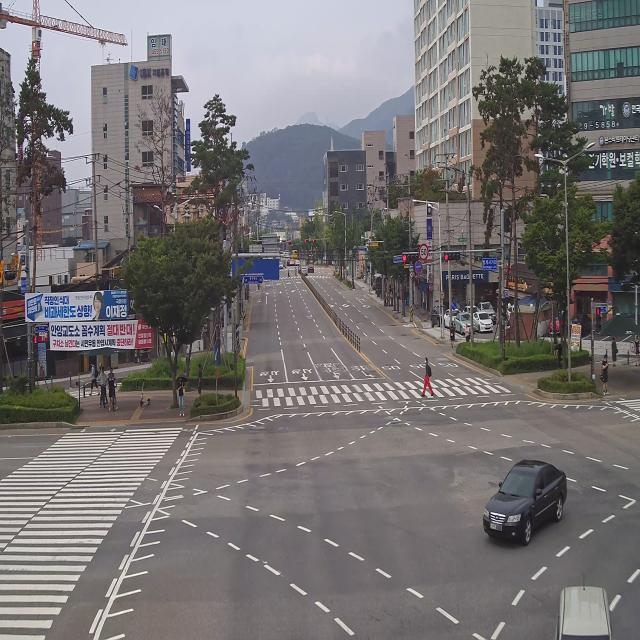Car: (475, 446, 576, 556)
